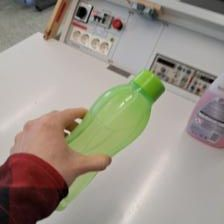bottle: (52, 68, 167, 212)
